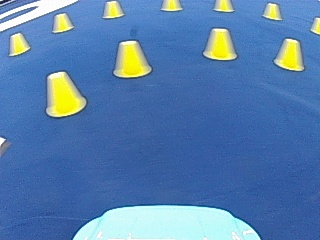cone: (44, 70, 86, 116), (112, 38, 150, 78), (203, 28, 236, 60), (273, 37, 304, 71), (8, 32, 29, 55), (52, 12, 73, 33), (102, 1, 123, 19), (263, 2, 281, 20), (214, 0, 233, 12), (161, 0, 181, 11), (309, 16, 319, 34)
